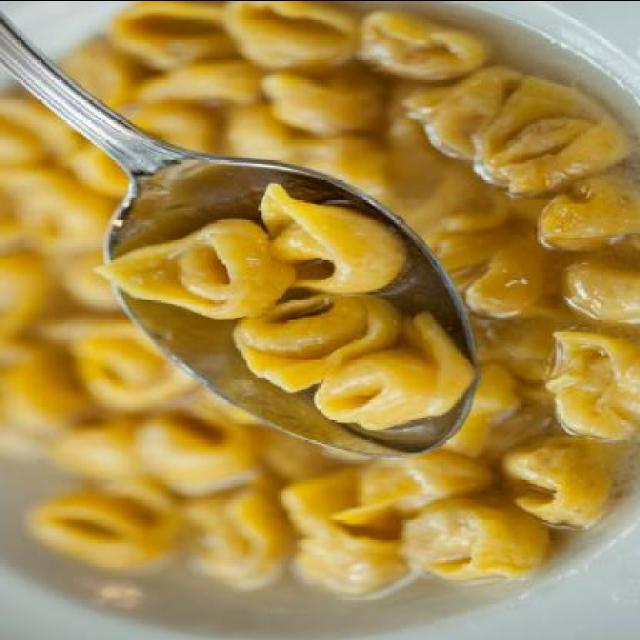Tortellini in broth: (138, 206, 444, 432)
